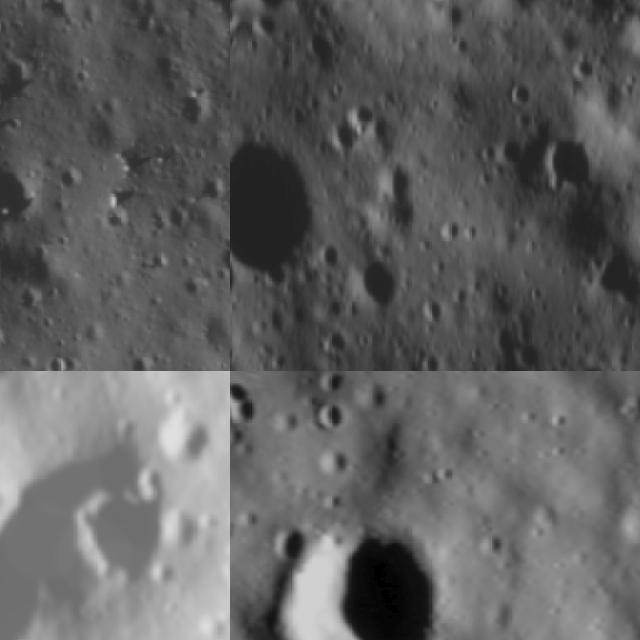crater: (242, 508, 473, 640), (53, 450, 216, 630), (230, 119, 335, 295), (0, 498, 60, 640), (522, 116, 606, 204), (148, 392, 226, 479), (339, 242, 418, 322), (256, 522, 320, 576), (0, 149, 42, 227), (611, 0, 640, 79), (336, 94, 380, 146), (488, 128, 529, 174), (302, 26, 342, 72), (611, 491, 640, 552), (496, 74, 537, 115), (315, 450, 356, 490), (230, 396, 268, 439), (315, 400, 355, 440), (230, 302, 249, 371), (17, 291, 57, 323), (540, 404, 577, 438), (200, 0, 230, 41), (246, 0, 307, 19), (558, 353, 621, 371), (230, 252, 248, 305), (40, 348, 74, 371), (213, 237, 230, 283), (0, 371, 26, 394), (128, 351, 154, 371), (0, 9, 11, 36)
